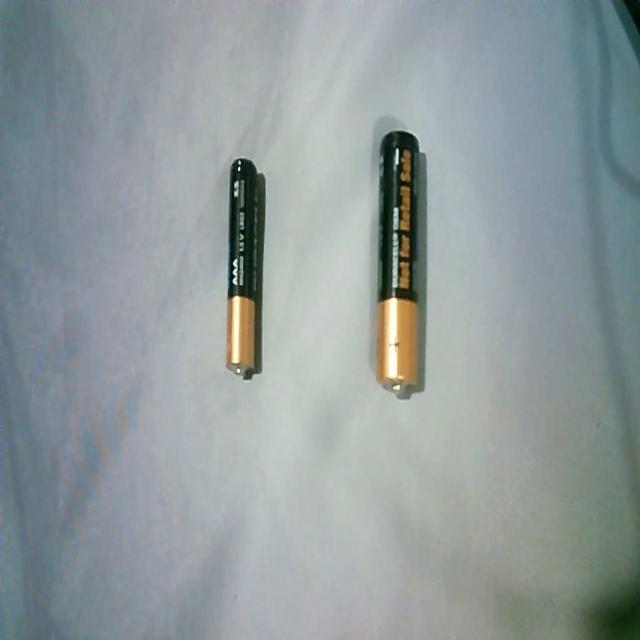AA: (367, 120, 430, 410)
AAA: (223, 153, 265, 386)
